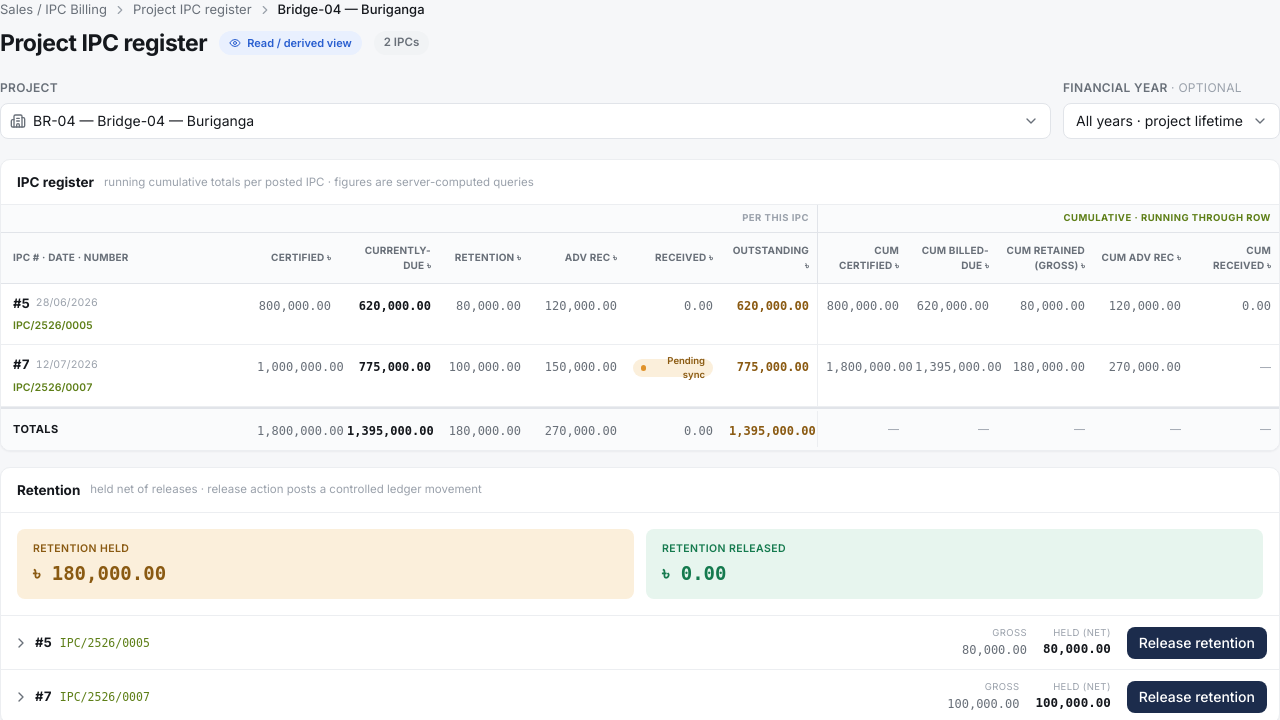
Scenario: Retention panel + Release-retention dialog (spec §5/§6/§7/§8) › release happy path: dialog → confirm → panel + register invalidated + toast (FR-SAL-018/-020)
Expected: the element with test id "reg-grid" is shown, [1,205,1279,450]
Click the button with test id "ret-release-btn-ipc-5": {"x": 1197, "y": 642} [1127,626,1267,658]
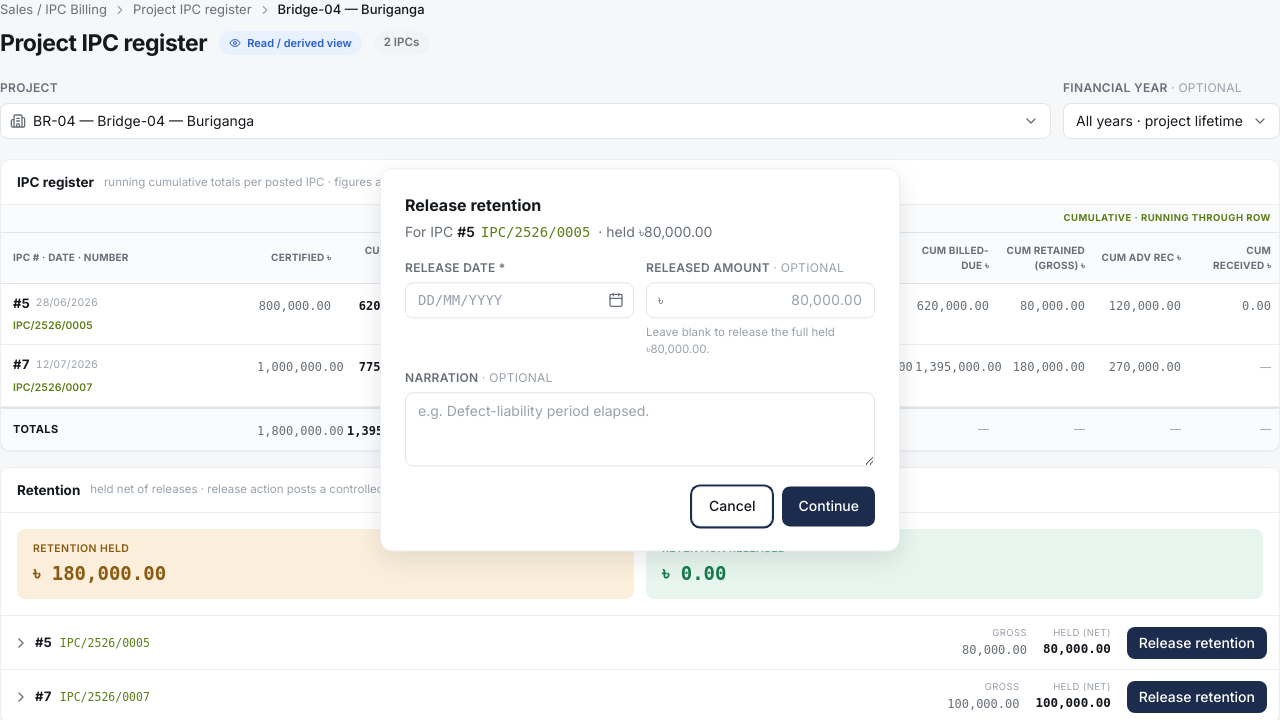
Now the dialog with test id "release-dialog" is shown, box [380,168,900,552]
In the field labelled "Release date *": {"x": 520, "y": 300} [405,282,634,318], type "20/06/2027"
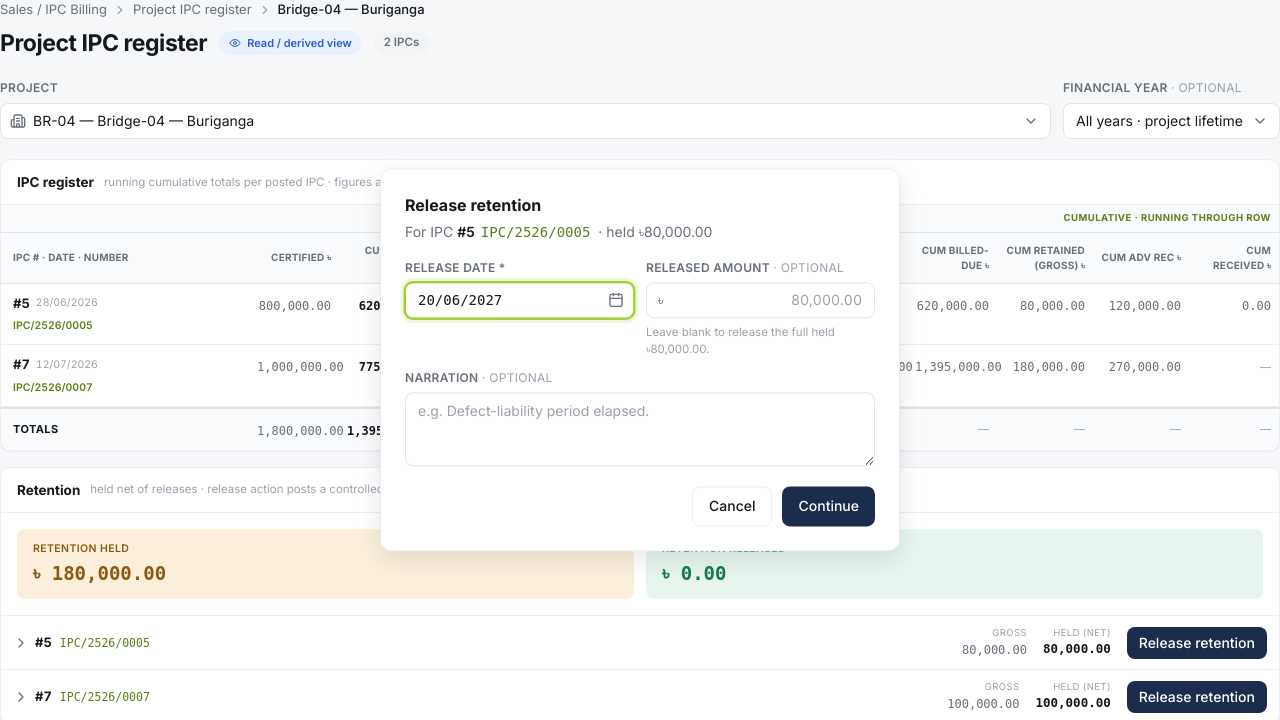
Click the button with test id "release-continue": {"x": 829, "y": 507} [782,487,875,527]
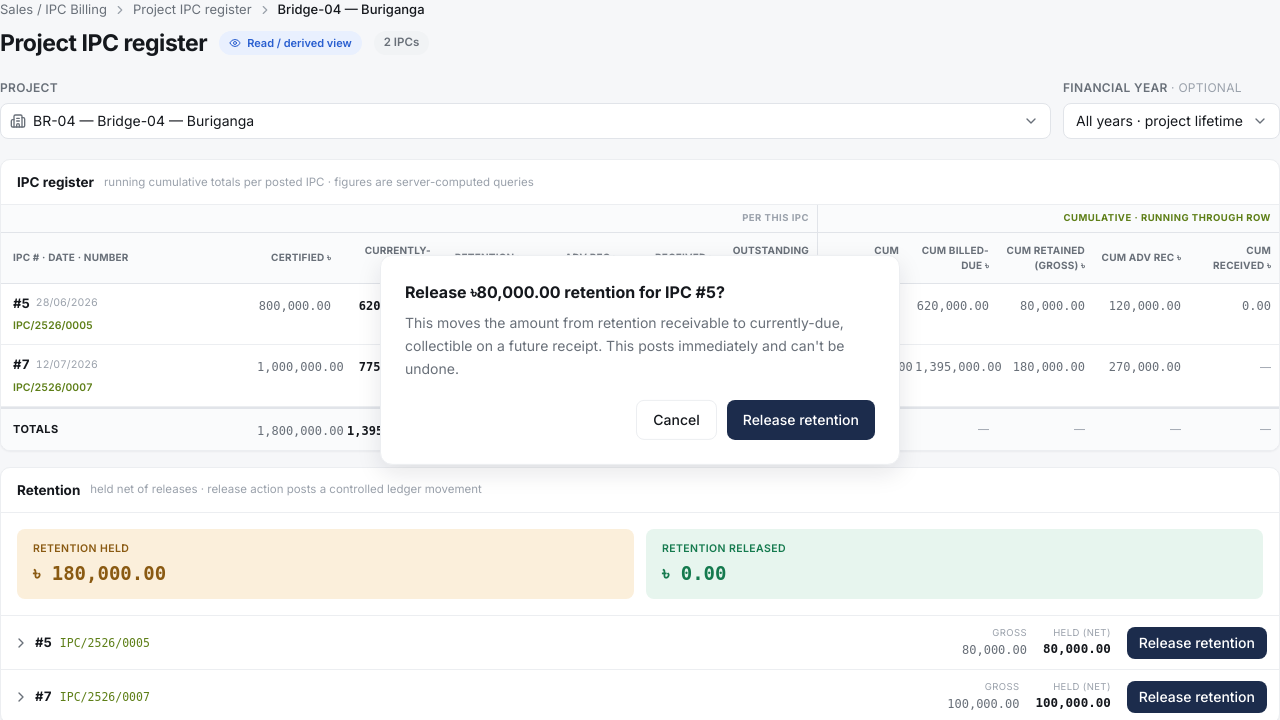
Now the heading with test id "release-confirm-title" reads "Release ৳80,000.00 retention for IPC #5?", box [405,282,725,302]
Click the button with test id "release-confirm": {"x": 801, "y": 420} [727,400,875,440]
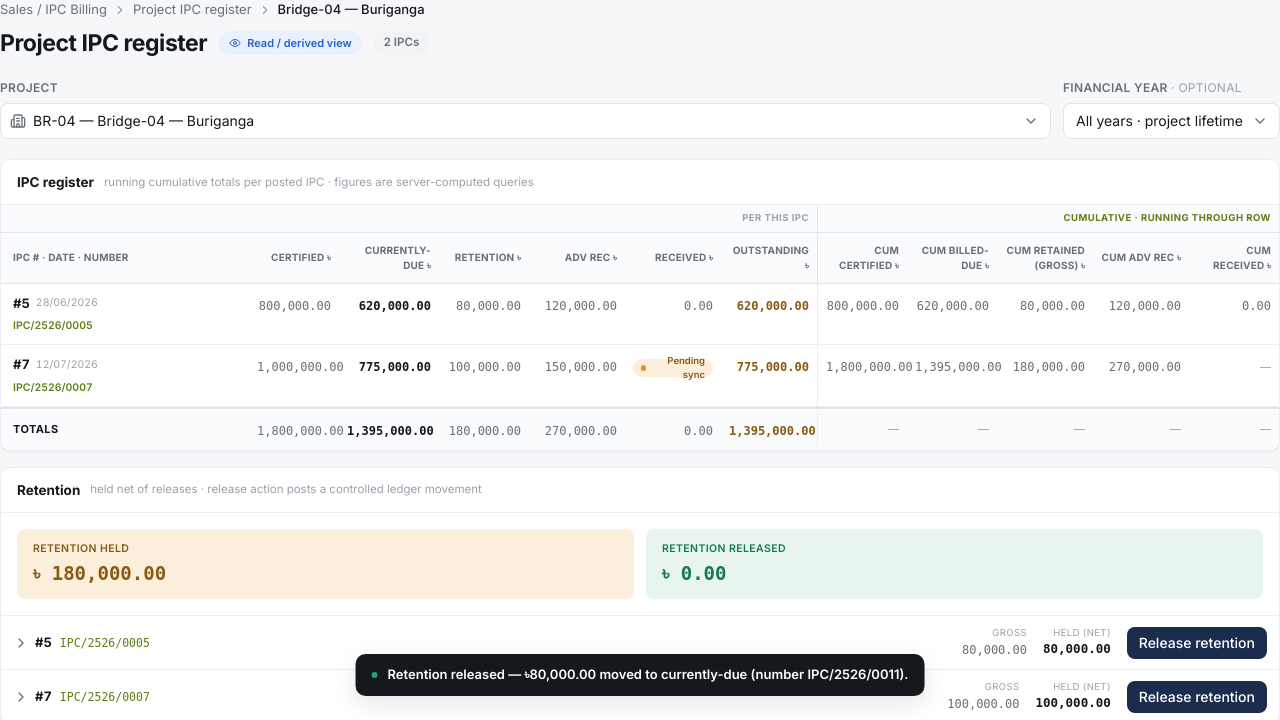
Now the text "Retention released — ৳80,000.00 moved to currently-due (number IPC/2526/0011)" is shown, box [388,666,908,682]
